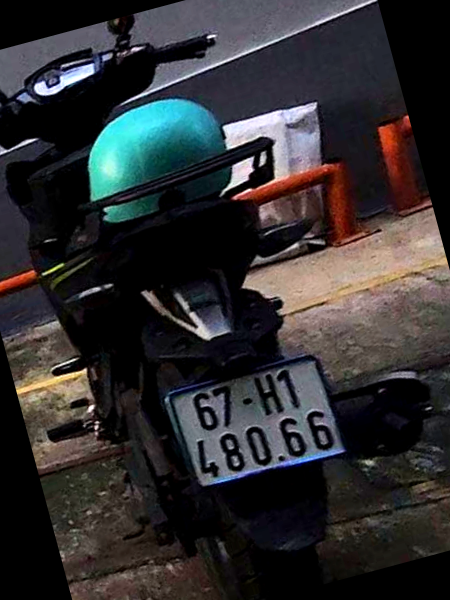number: (167, 352, 340, 490)
